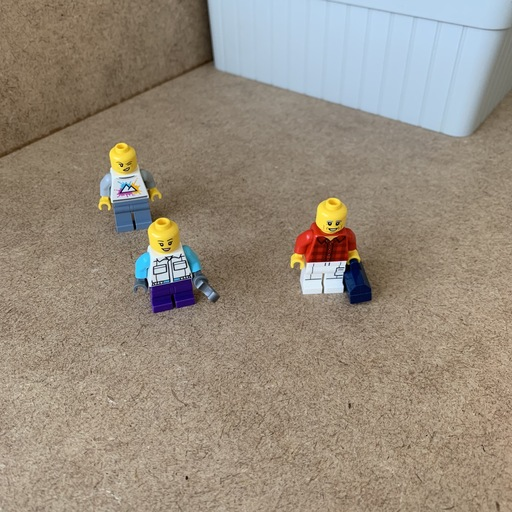human: (282, 191, 374, 314), (126, 212, 210, 317), (96, 142, 158, 230)
